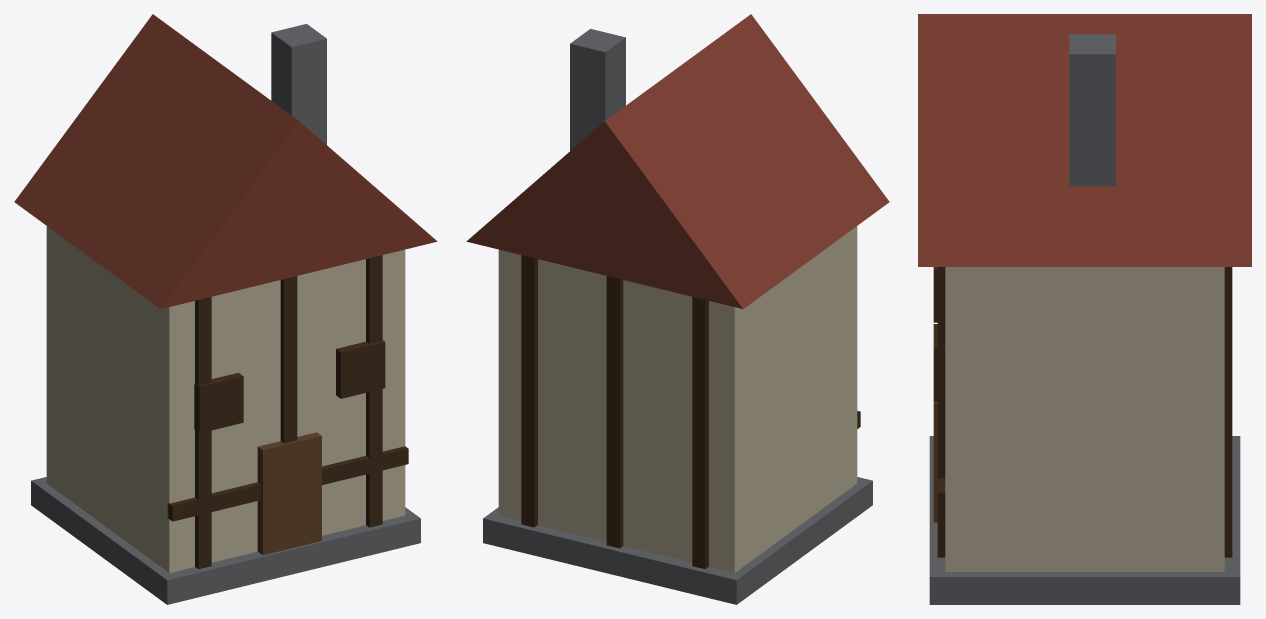
Rendered from house_lowpoly.glb.
3 views of the same model, side by side, from view 1: azimuth 30°, elevation 25°; view 2: azimuth 150°, elevation 25°; view 3: azimuth 270°, elevation 25° (orthographic). The views are drawn at different scales.
Visible parts, largest first — view 1: lp_house; view 2: lp_house; view 3: lp_house.
Part boxes in pixels (x1,y1,x2,y2): lp_house: [14, 14, 437, 604]; lp_house: [466, 14, 889, 604]; lp_house: [918, 14, 1251, 604].
Size of the model in its own units: 0.94 by 1.51 by 0.86.
